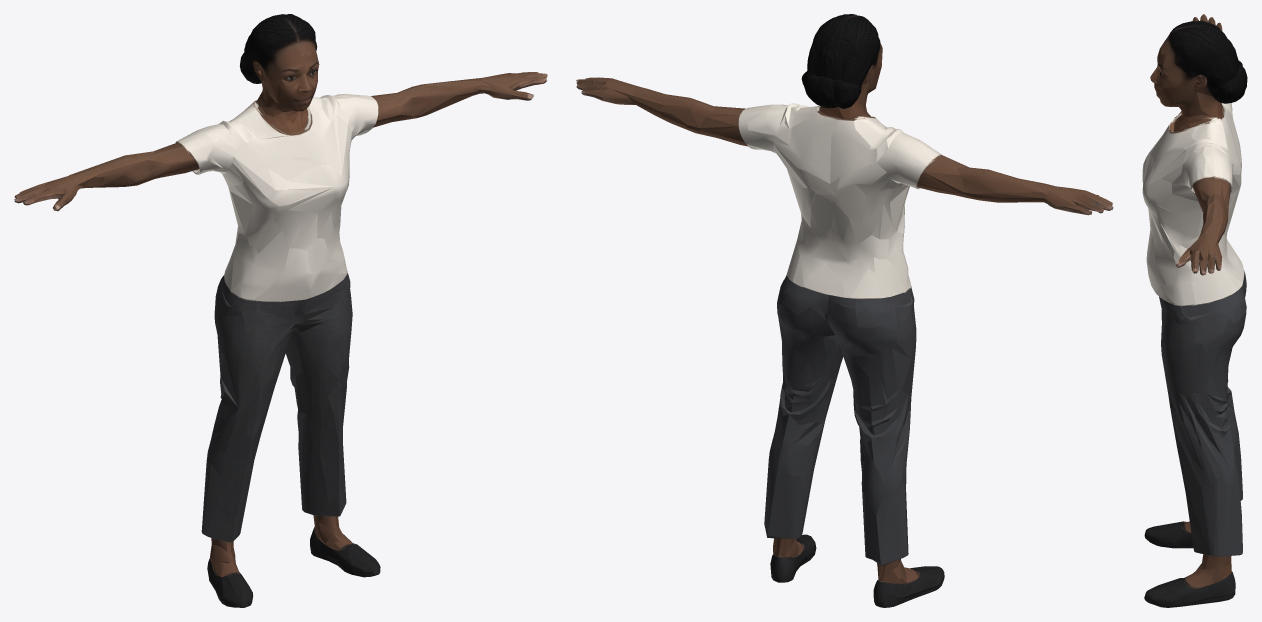
The model's file is image3d.glb.
The picture shows the model from 3 angles, left to right: view 1: azimuth 30°, elevation 25°; view 2: azimuth 150°, elevation 25°; view 3: azimuth 270°, elevation 25°; orthographic projection. The views are drawn at different scales.
Size of the model in its own units: 1.9 by 1.9 by 0.3304.
Materials: 1 (1 with a texture image).
